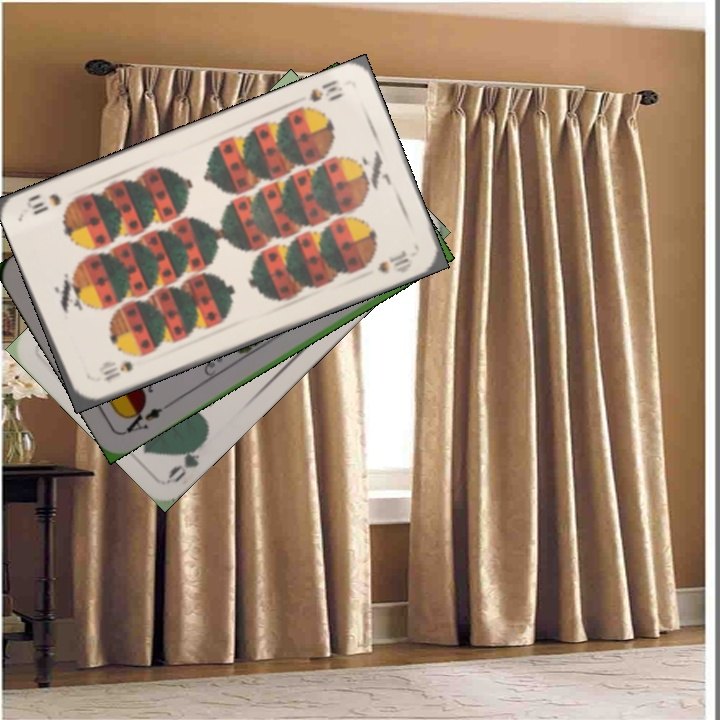EA: (120, 401, 165, 436)
GO: (164, 435, 210, 486)
S10: (305, 75, 348, 105), (99, 357, 136, 384)
